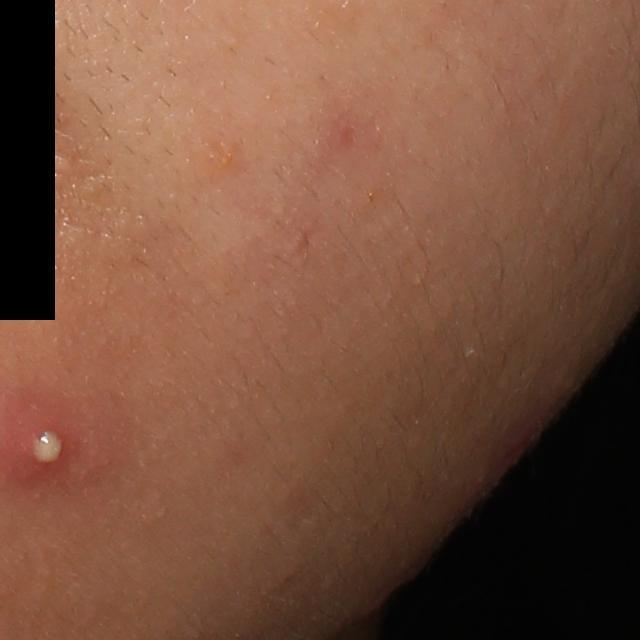pustule: (15, 398, 78, 483)
